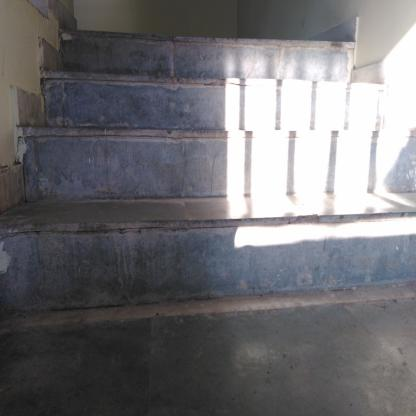stairs: (63, 27, 354, 310)
